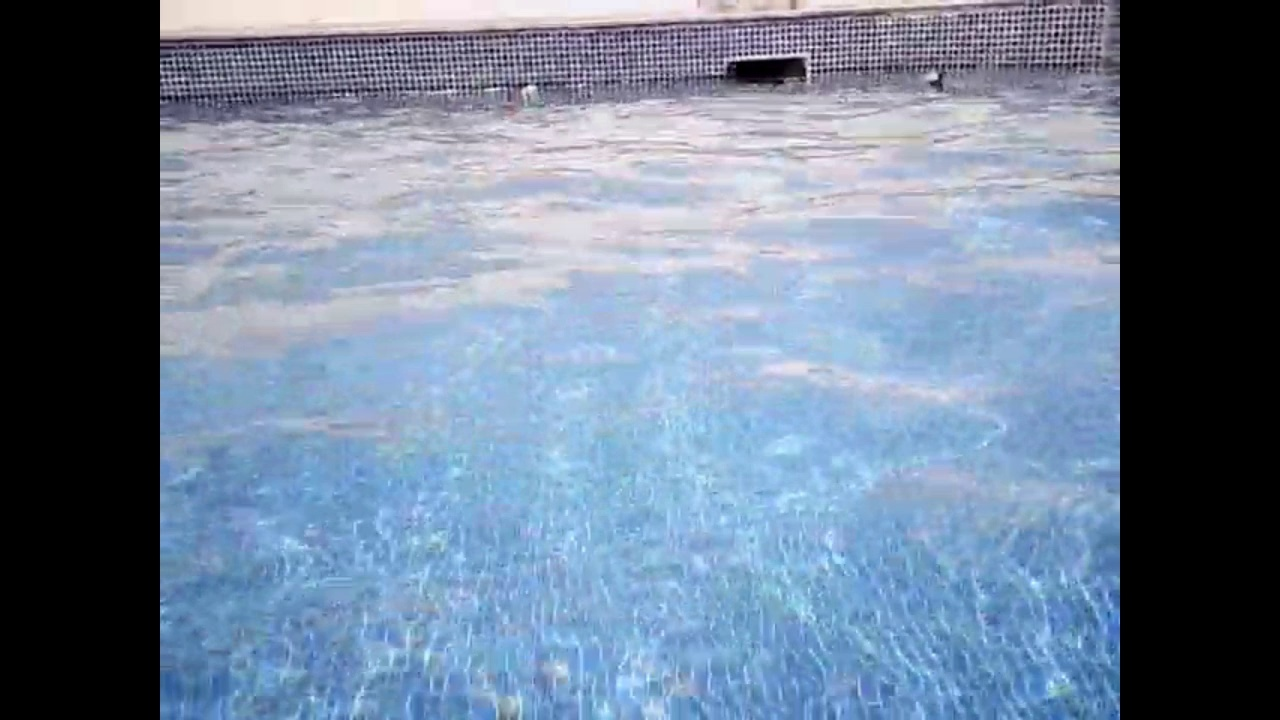debris: (917, 70, 942, 89), (518, 82, 537, 102)
